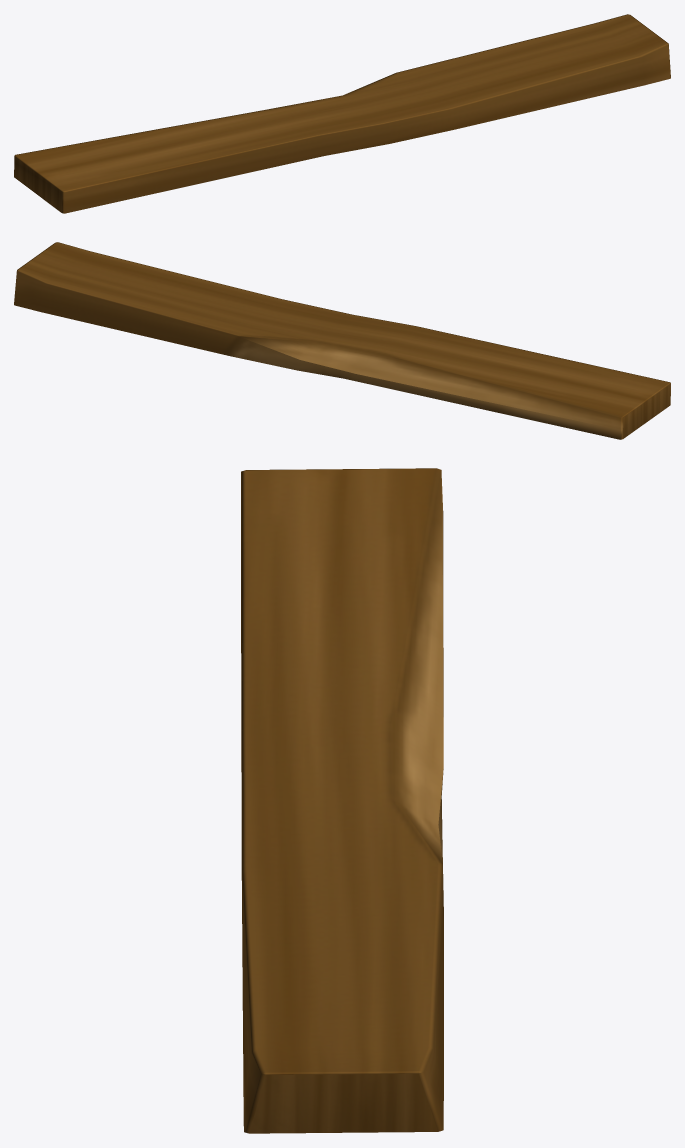
Rendered from Mesh_WoodBuilding_BentPlank2.fbx.
3 renders of one model, top to bottom at view 1: azimuth 30°, elevation 25°; view 2: azimuth 150°, elevation 25°; view 3: azimuth 270°, elevation 25°, orthographic. The views are drawn at different scales.
Visible parts, largest first — view 1: polySurface129; view 2: polySurface129; view 3: polySurface129.
Part boxes in pixels (x1,y1,x2,y2): polySurface129: [14, 14, 670, 213]; polySurface129: [14, 242, 670, 439]; polySurface129: [241, 468, 443, 1133].
Size of the model in its own units: 150 by 8.69 by 21.64.
